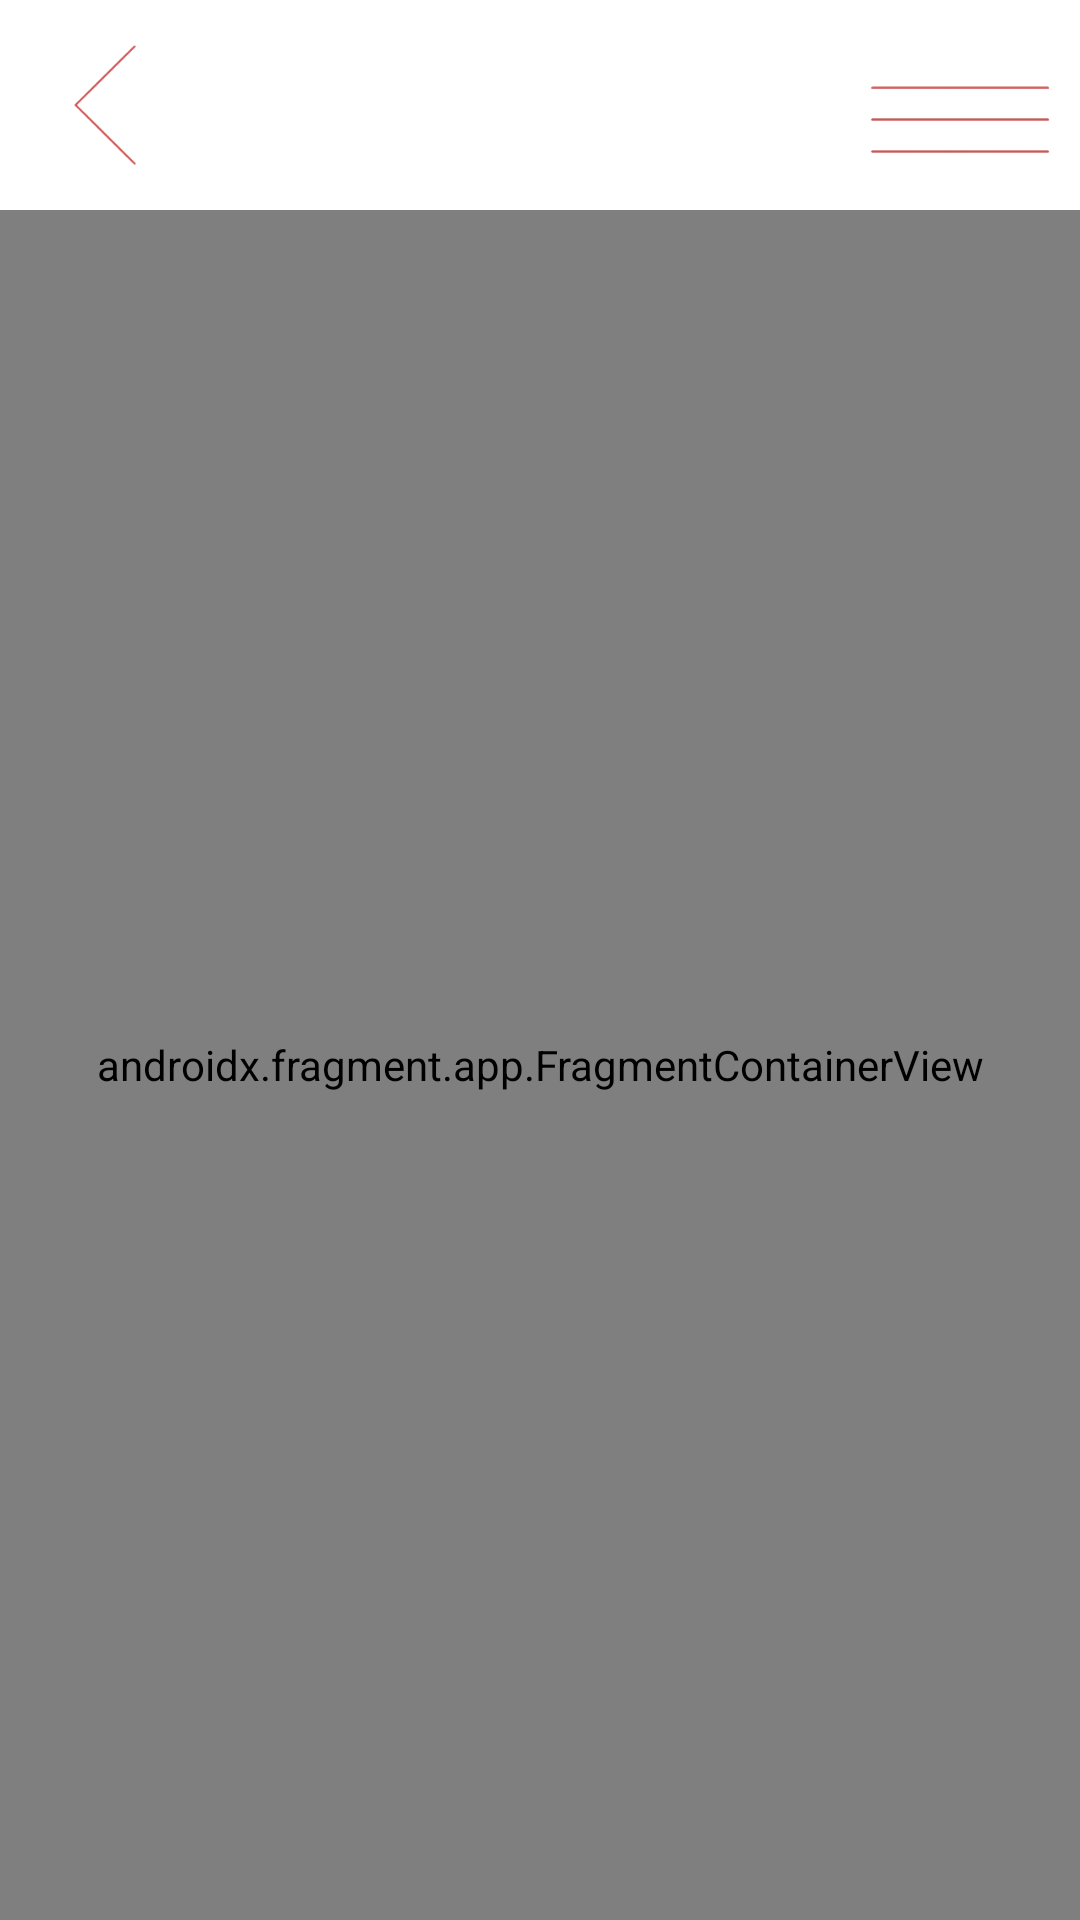

Screen size 1080 x 1920. Icon name, then its center in pixels as (x=x, y=y):
oishii arrow: (x=105, y=105)
oishii burger menu: (x=960, y=119)
